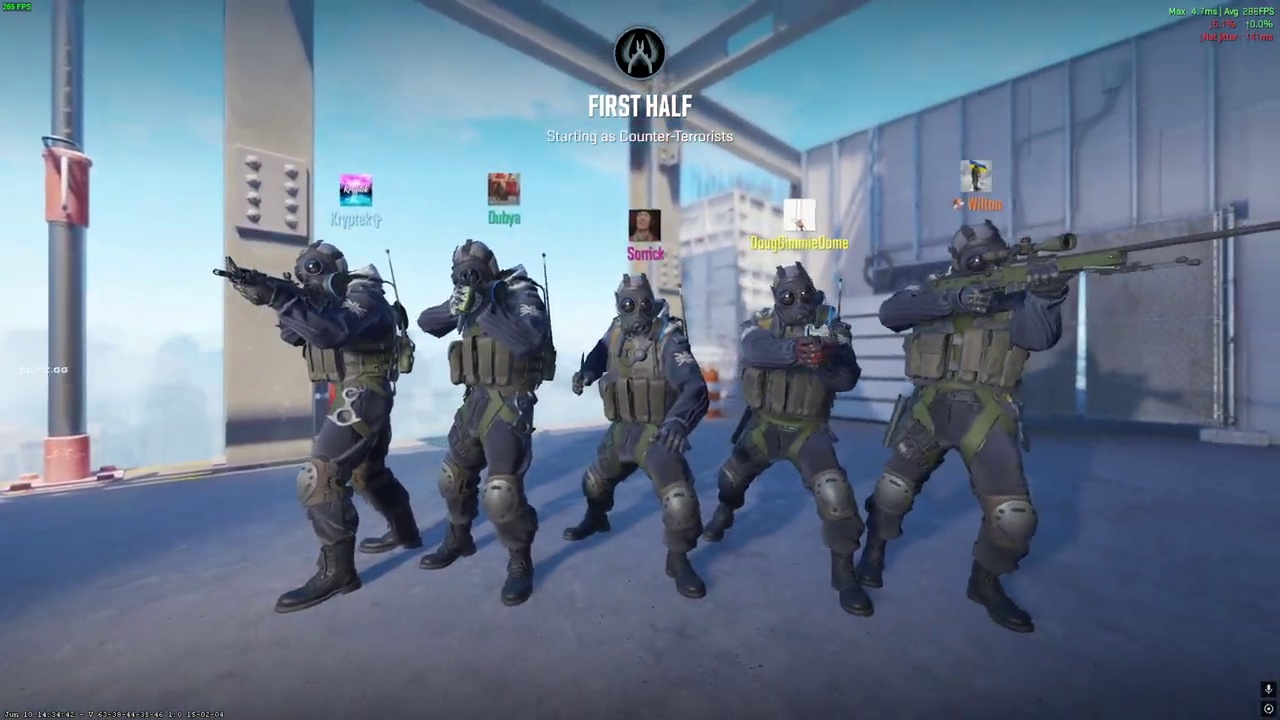CT: (856, 218, 1068, 637), (258, 239, 420, 613), (706, 261, 872, 614), (417, 239, 556, 606), (562, 273, 710, 597)
